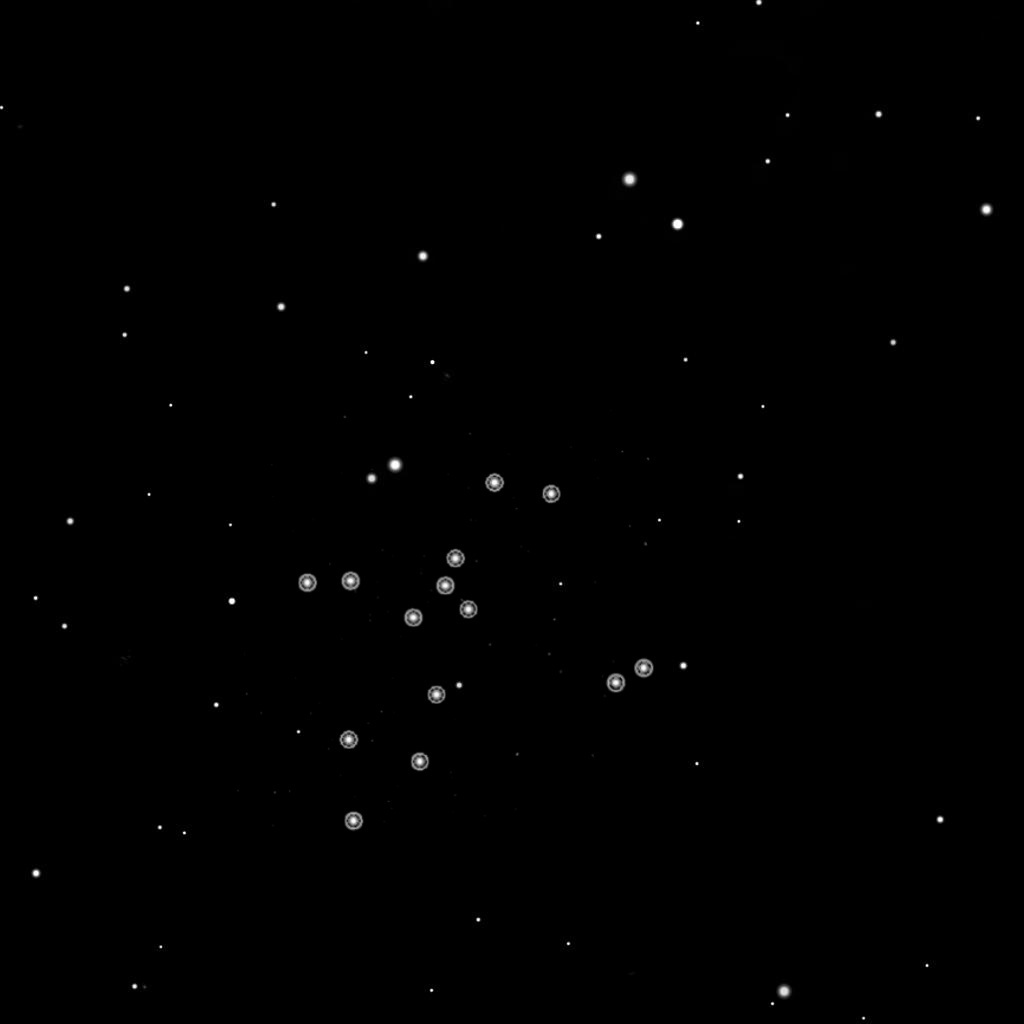canis_major: (399, 469, 563, 633)
